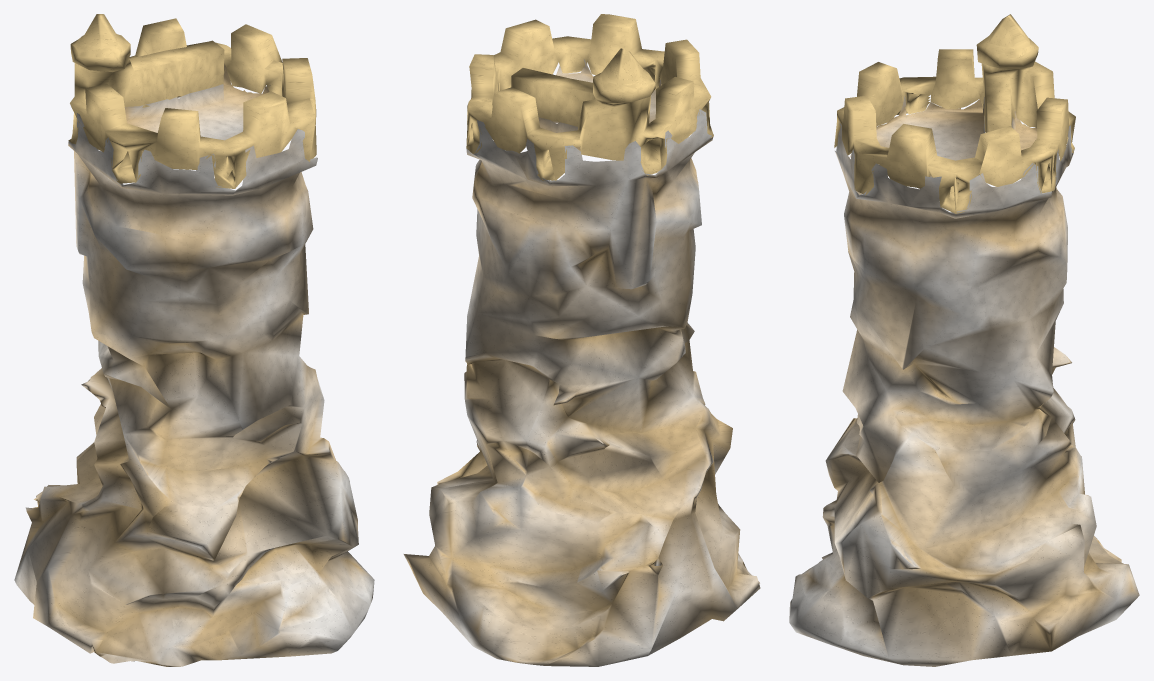
The model's file is Argent_Reliquary_White_Rook.glb.
3 renders of one model, left to right at view 1: azimuth 30°, elevation 25°; view 2: azimuth 150°, elevation 25°; view 3: azimuth 270°, elevation 25°, orthographic. The views are drawn at different scales.
Parts seen in each view (by area): view 1: Argent Reliquary – White Rook; view 2: Argent Reliquary – White Rook; view 3: Argent Reliquary – White Rook.
Boxes of the visible parts, bbox=[...] form: Argent Reliquary – White Rook: bbox=[14, 14, 374, 666]; Argent Reliquary – White Rook: bbox=[403, 14, 760, 666]; Argent Reliquary – White Rook: bbox=[789, 14, 1139, 666].
Bounding box in the file's own units: 0.0359 × 0.0682 × 0.0384.
2 materials, 2 textured.
